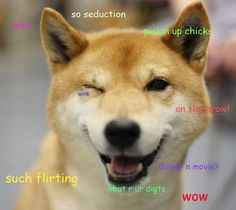doge: (35, 2, 213, 205)
